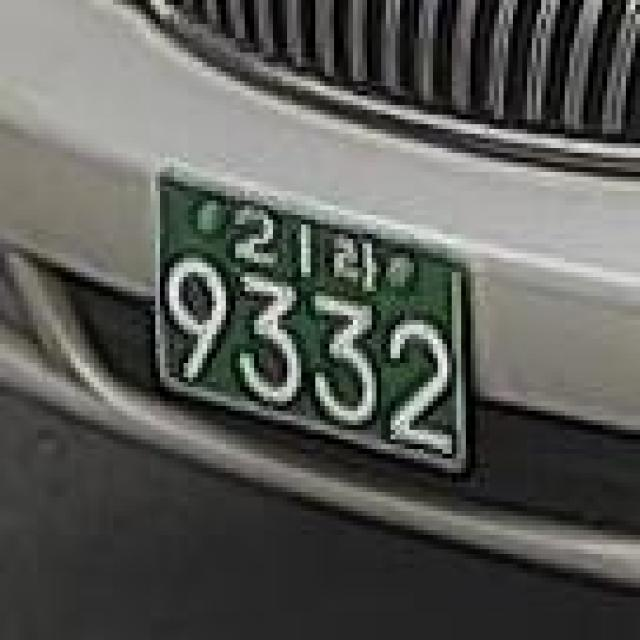illegal_plate: (147, 156, 485, 493)
